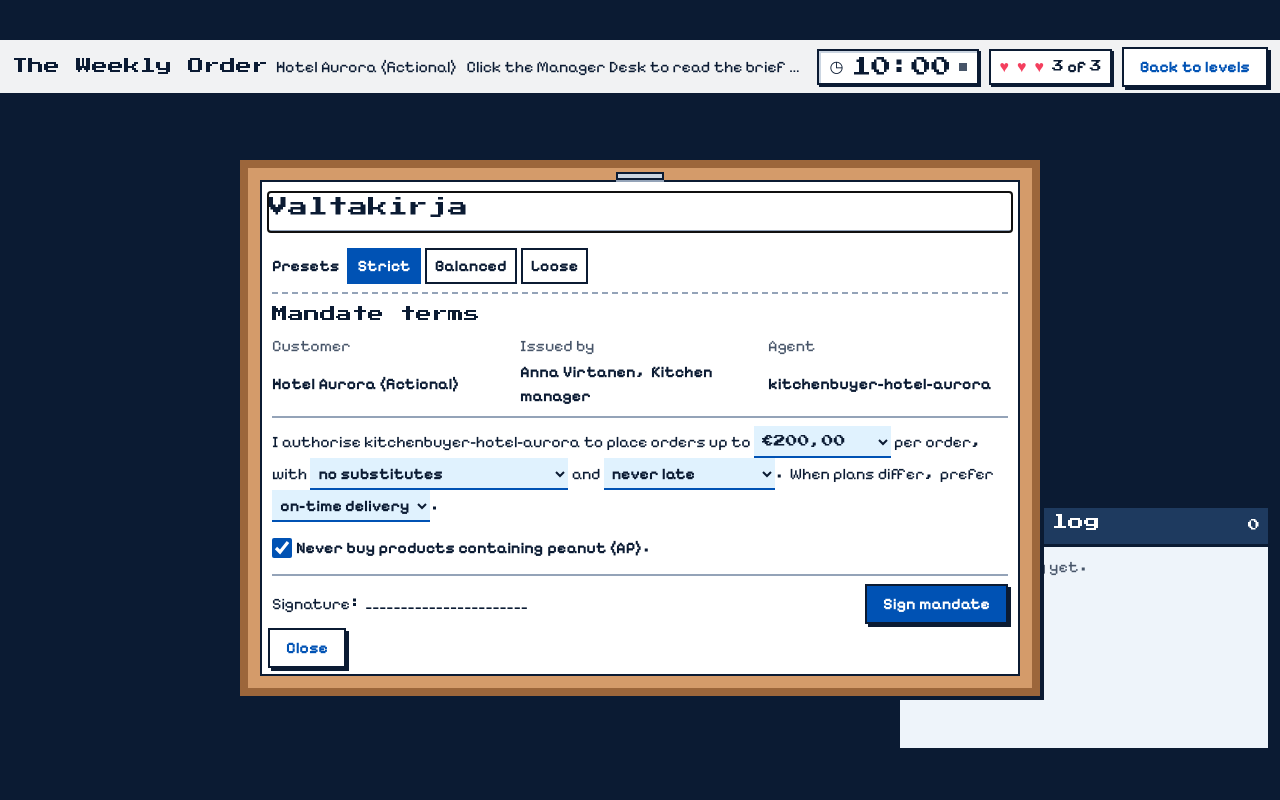
Scenario: KitchenScreen replay integration › level1 / balanced reveals mock steps at director marks
The width and height of the screenshot is (1280, 800).
Earlier steps of the test are not shown.
Click the button "Balanced" at coordinates (471, 266), box [425, 248, 517, 284]
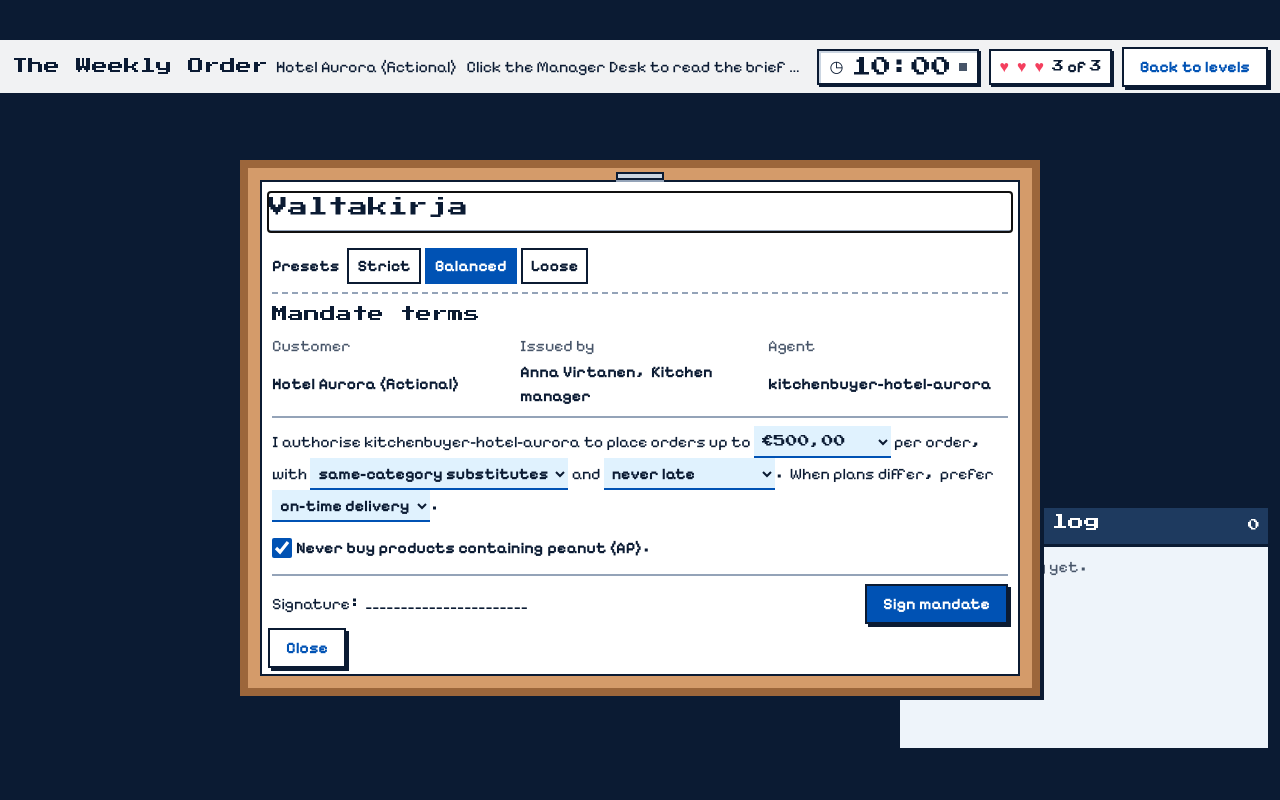
Click the button "Sign mandate" at coordinates (937, 604), box [865, 584, 1008, 624]
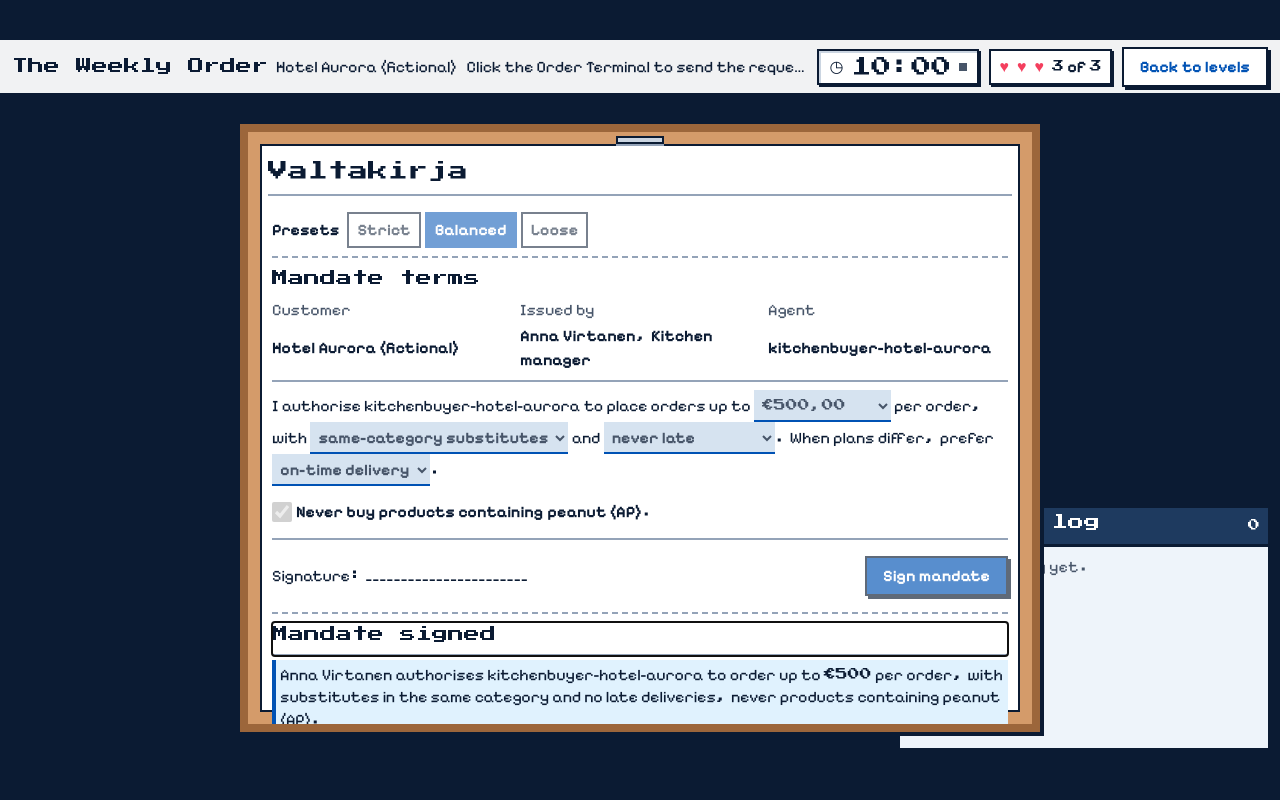
Check: the text "Anna Virtanen authorises kitchenbuyer-hotel-aurora to order up to €500 per order, with substitutes in the same category " is shown, box [280, 665, 1003, 729]
Press Escape
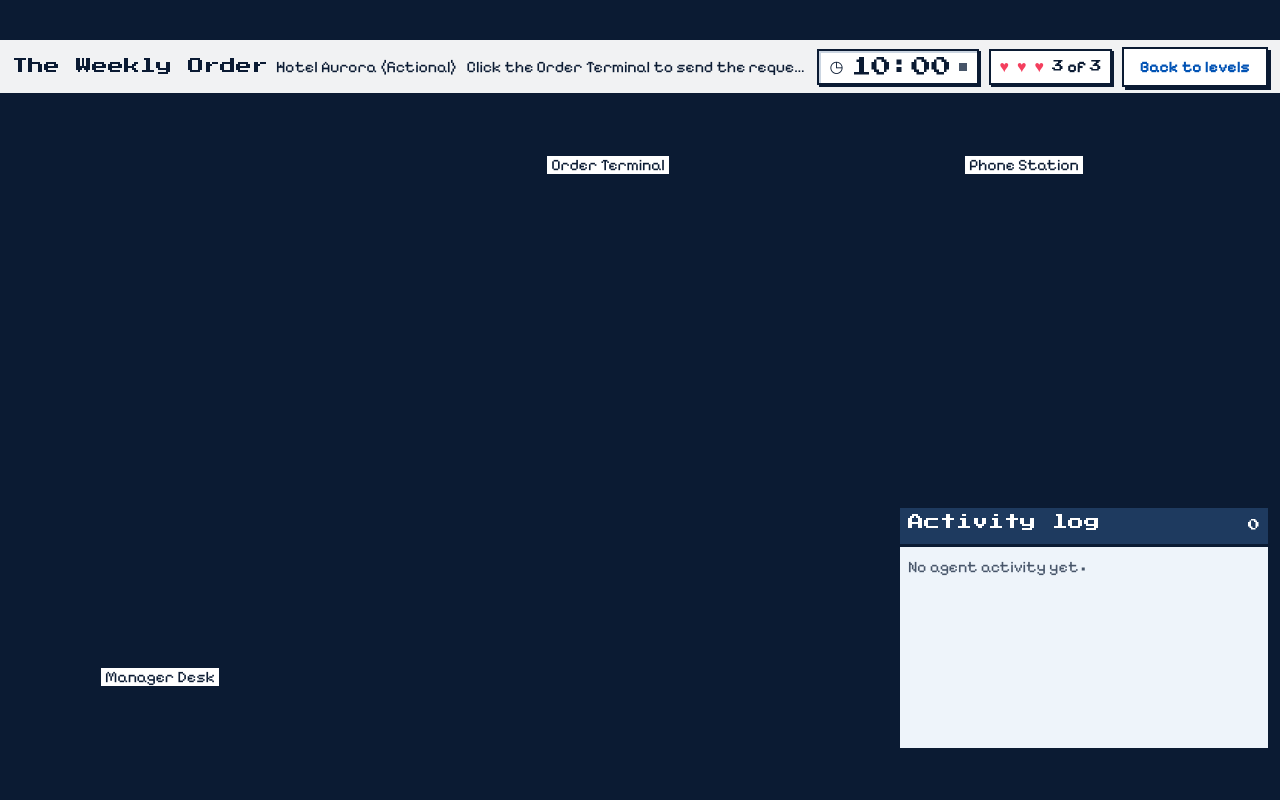
Click the button "Order Terminal" at coordinates (608, 144), box [512, 112, 704, 176]
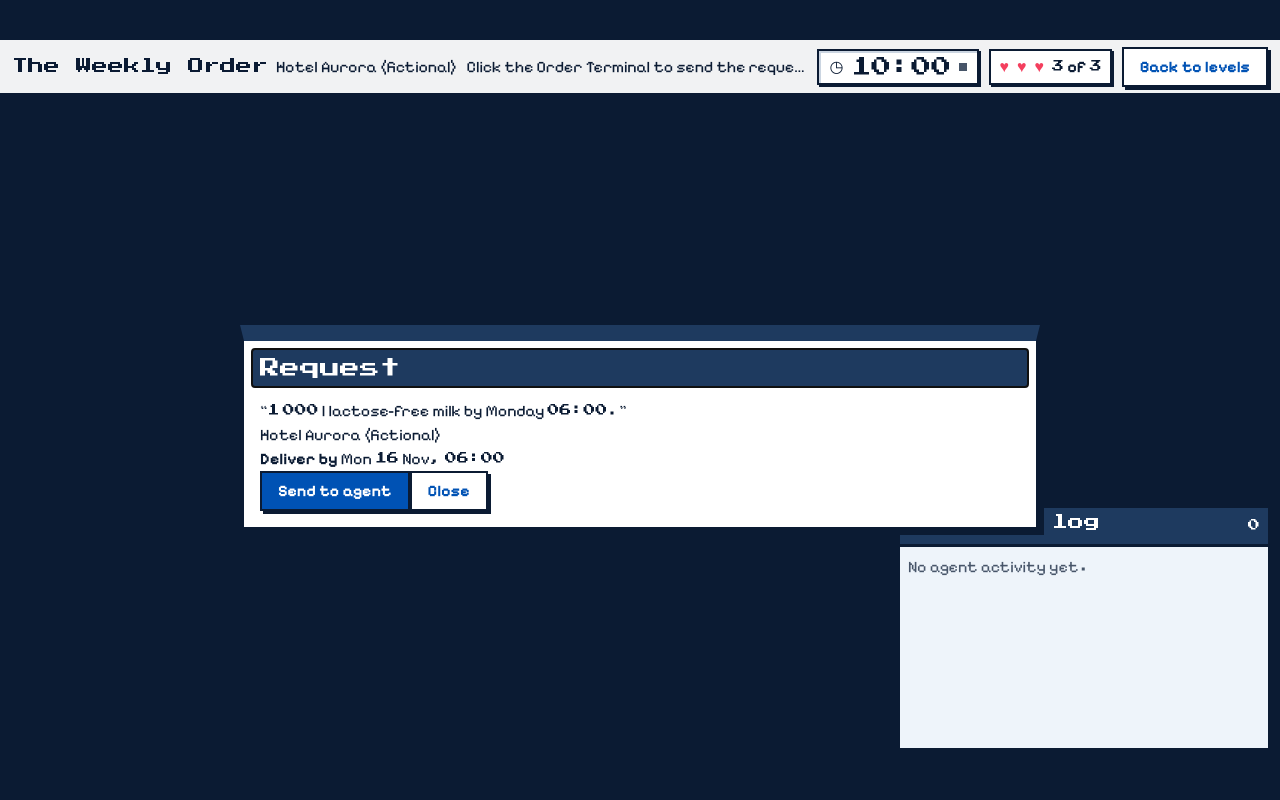
Check: the element named "Game clock" shows "10:00", box [851, 56, 951, 76]
Check: the element named "Activity log" reads "No agent activity yet.", box [908, 557, 1091, 576]
Click the button "Send to agent" at coordinates (335, 491), box [260, 471, 410, 511]
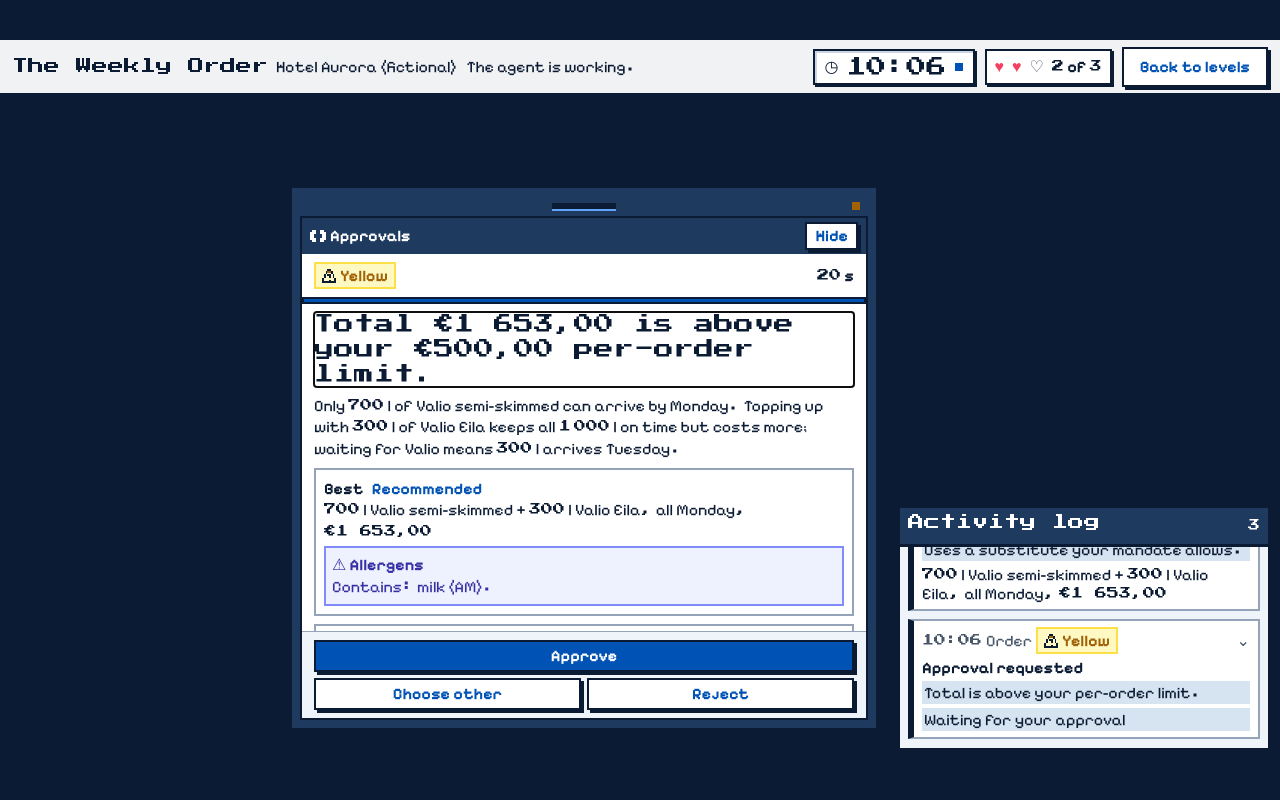
Click the button "Approve" at coordinates (584, 656), box [314, 640, 854, 672]
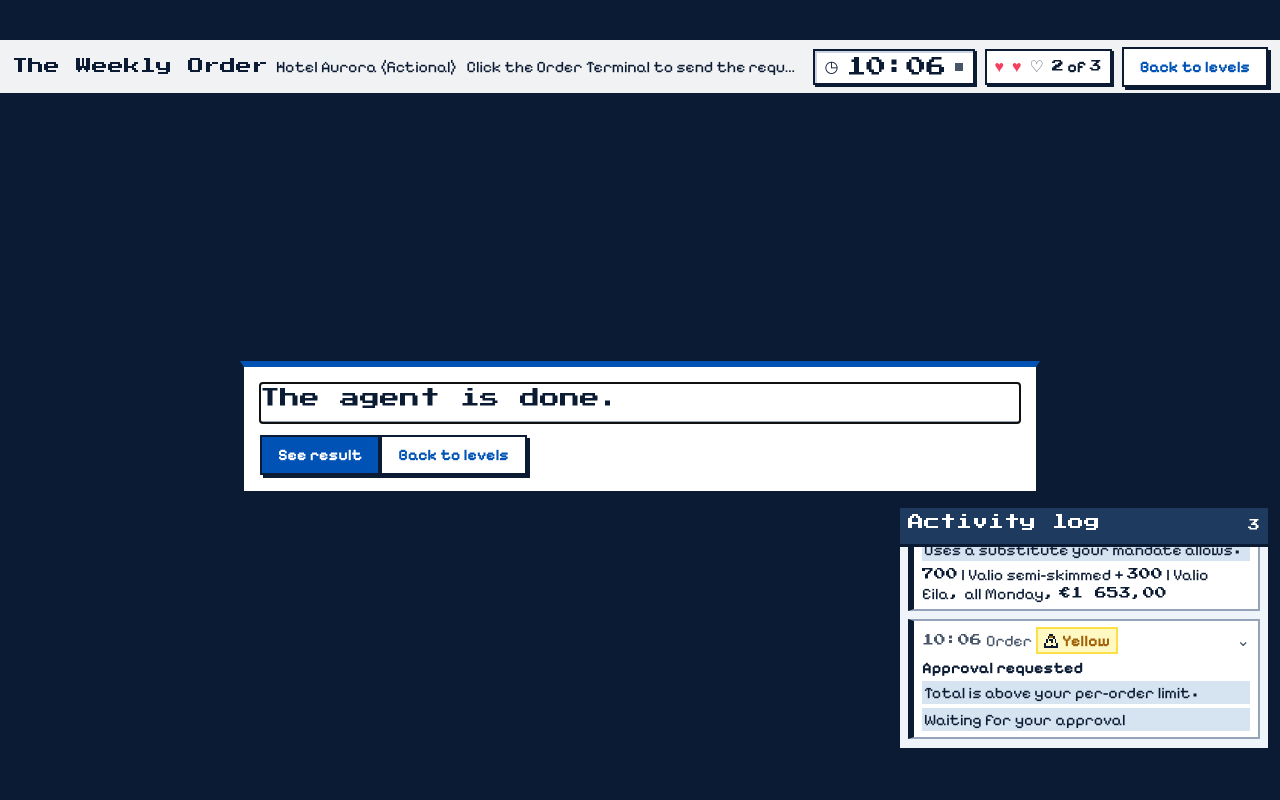
Check: the text "Game clock" does not show "10:00"
Check: the dialog "The agent is done." is shown, box [240, 361, 1040, 495]
